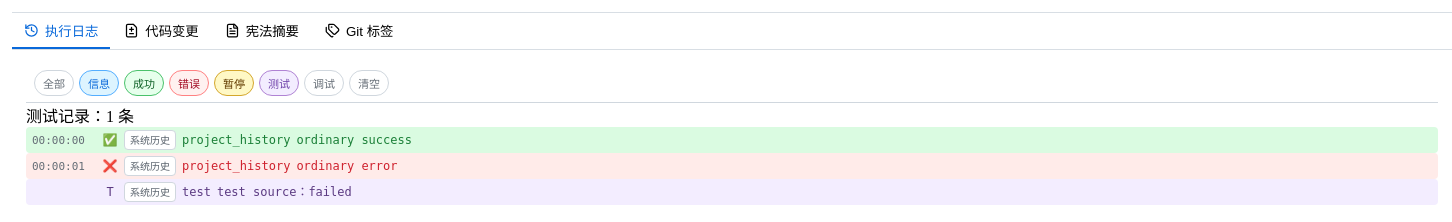
Test case: TaskConsole task navigation › filters test source independently and restores an empty selection from All
Click the button "清空" at [369, 83], box left=349, top=70, right=389, bottom=96
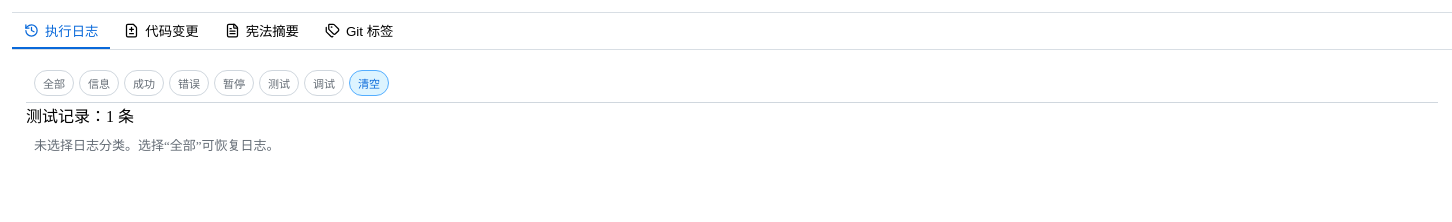
expect no elements with class "execution-log-entry" are shown: met
expect the text "选择“全部”可恢复日志" is shown: met, box left=34, top=138, right=280, bottom=153
Click the button "测试" at [279, 83], box left=259, top=70, right=299, bottom=96
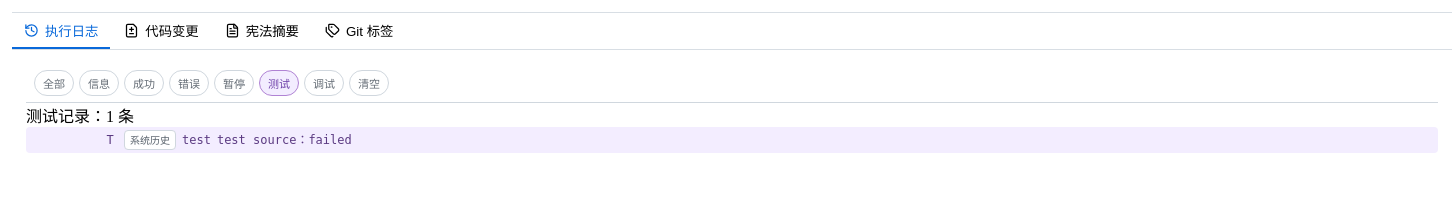
expect the text "ordinary error" is not shown: met
expect the text "test source：failed" is shown: met, box left=217, top=132, right=352, bottom=149
Click the button "成功" at [144, 83], box left=124, top=70, right=164, bottom=96
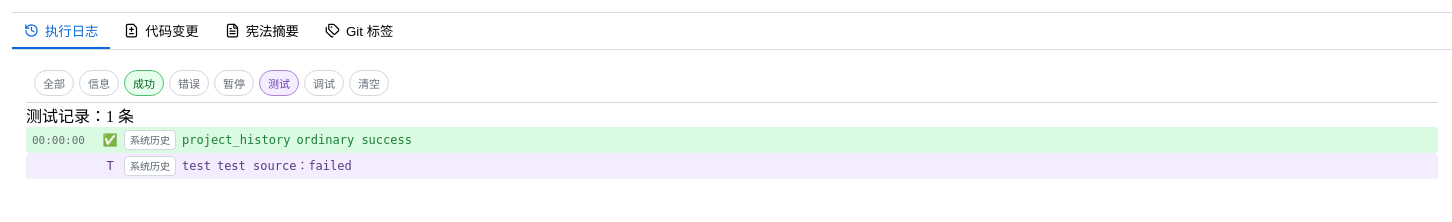
expect the text "ordinary success" is shown: met, box left=296, top=132, right=412, bottom=149
Click the button "测试" at [279, 83], box left=259, top=70, right=299, bottom=96
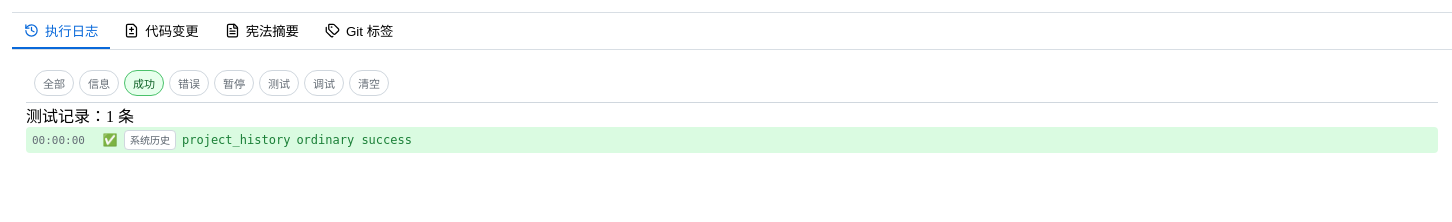
expect the text "ordinary success" is shown: met, box left=296, top=132, right=412, bottom=149
expect the text "test source：failed" is gone: met
Click the button "全部" at [54, 83], box left=34, top=70, right=74, bottom=96
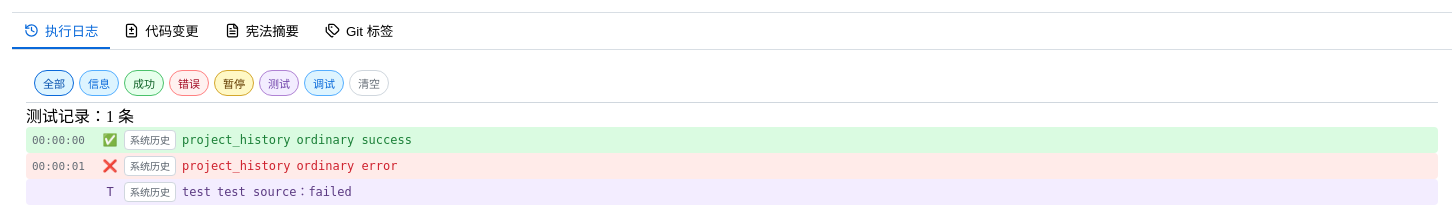
expect the text "ordinary error" is shown: met, box left=296, top=158, right=398, bottom=175
expect the text "test source：failed" is shown: met, box left=217, top=184, right=352, bottom=201
